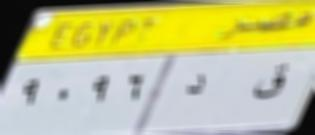0: (54, 80, 74, 112)
6: (123, 66, 150, 107)
9: (19, 73, 47, 114), (88, 68, 116, 107)
daal: (179, 65, 214, 104)
qaaf: (246, 58, 297, 109)
